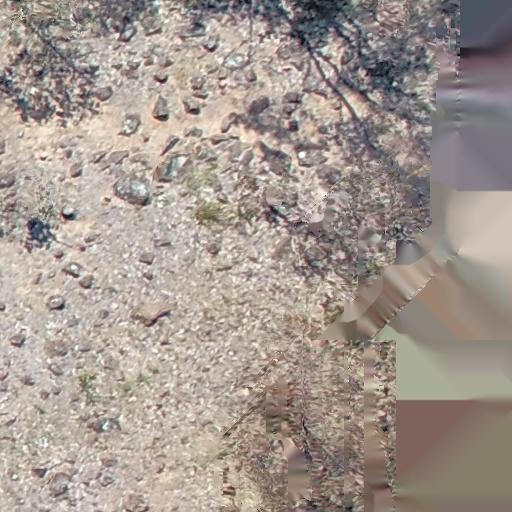stone: (263, 186, 300, 226), (259, 140, 292, 177), (112, 175, 150, 205), (154, 152, 188, 184), (130, 301, 171, 326), (223, 42, 257, 69), (47, 473, 72, 497), (123, 153, 148, 176), (143, 6, 162, 36), (118, 113, 141, 137), (244, 96, 269, 118), (275, 42, 300, 64), (43, 338, 69, 358), (93, 416, 121, 434), (159, 136, 181, 158), (194, 142, 218, 162), (151, 95, 169, 117), (122, 494, 144, 511), (98, 351, 117, 370), (182, 97, 202, 115), (220, 113, 238, 133), (92, 147, 112, 165), (0, 170, 17, 190), (108, 149, 129, 165), (63, 262, 83, 278), (46, 294, 66, 310), (98, 452, 118, 468), (238, 146, 254, 166), (8, 332, 27, 348), (47, 361, 66, 377), (138, 250, 156, 266), (68, 161, 84, 179), (95, 85, 113, 101), (214, 258, 234, 272), (190, 75, 206, 91), (84, 430, 100, 446), (283, 91, 304, 103), (98, 472, 116, 486), (243, 65, 257, 83), (296, 156, 316, 168), (183, 126, 203, 138), (202, 38, 219, 52), (19, 373, 36, 387), (0, 414, 18, 427), (340, 48, 353, 66), (78, 274, 94, 288), (205, 242, 221, 256), (60, 205, 76, 219), (31, 467, 49, 479), (154, 236, 172, 248), (120, 28, 136, 41), (120, 69, 140, 79), (90, 407, 108, 418), (83, 233, 99, 244), (285, 119, 298, 132), (31, 271, 43, 285), (97, 308, 111, 320), (38, 389, 52, 401), (156, 386, 170, 398), (209, 134, 230, 142), (146, 360, 158, 374), (170, 212, 182, 226), (159, 57, 174, 68), (65, 451, 77, 464), (66, 318, 81, 328), (154, 74, 170, 83), (142, 270, 154, 282), (206, 62, 218, 74), (192, 92, 210, 100), (246, 248, 258, 260), (177, 187, 190, 198), (126, 60, 141, 69), (52, 249, 65, 259), (33, 65, 44, 76), (86, 418, 98, 428), (80, 410, 90, 422), (159, 334, 169, 346), (217, 194, 229, 204), (63, 147, 73, 159), (152, 188, 164, 198), (0, 369, 9, 382), (78, 343, 91, 352), (114, 370, 124, 381), (226, 213, 236, 224), (111, 62, 124, 70), (140, 133, 150, 143), (56, 173, 66, 183), (332, 101, 342, 111), (51, 386, 62, 395), (76, 360, 87, 369), (283, 106, 294, 115), (143, 58, 155, 66), (17, 128, 26, 138), (218, 80, 227, 90), (317, 125, 327, 134), (100, 196, 108, 207), (0, 137, 5, 154), (135, 472, 143, 482), (0, 382, 8, 391), (47, 270, 56, 278), (118, 268, 127, 276), (127, 49, 138, 55), (11, 473, 19, 481), (113, 43, 121, 51), (39, 152, 47, 160), (15, 313, 24, 320), (18, 498, 25, 506), (200, 100, 207, 108), (154, 183, 165, 188), (56, 155, 65, 161), (219, 72, 226, 79), (56, 148, 63, 155), (0, 302, 6, 310), (79, 246, 87, 252), (48, 155, 54, 163), (50, 148, 56, 155), (104, 196, 111, 202), (220, 90, 226, 96)
